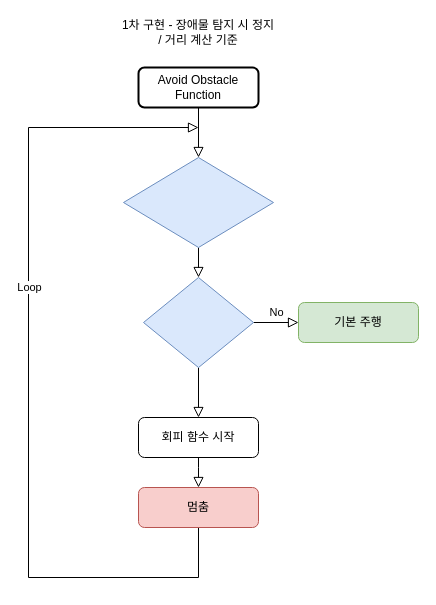
Some shapes in this 436 by 605 pixel diagram are drawn without their labels. Here are the shapes that lost their labels. From the top down, the centre of each, then its label:
At point (198, 202): "Distance Detect (장애물과의 거리 값 계산)".
At point (198, 322): "정면기준 distance 00 이하".
